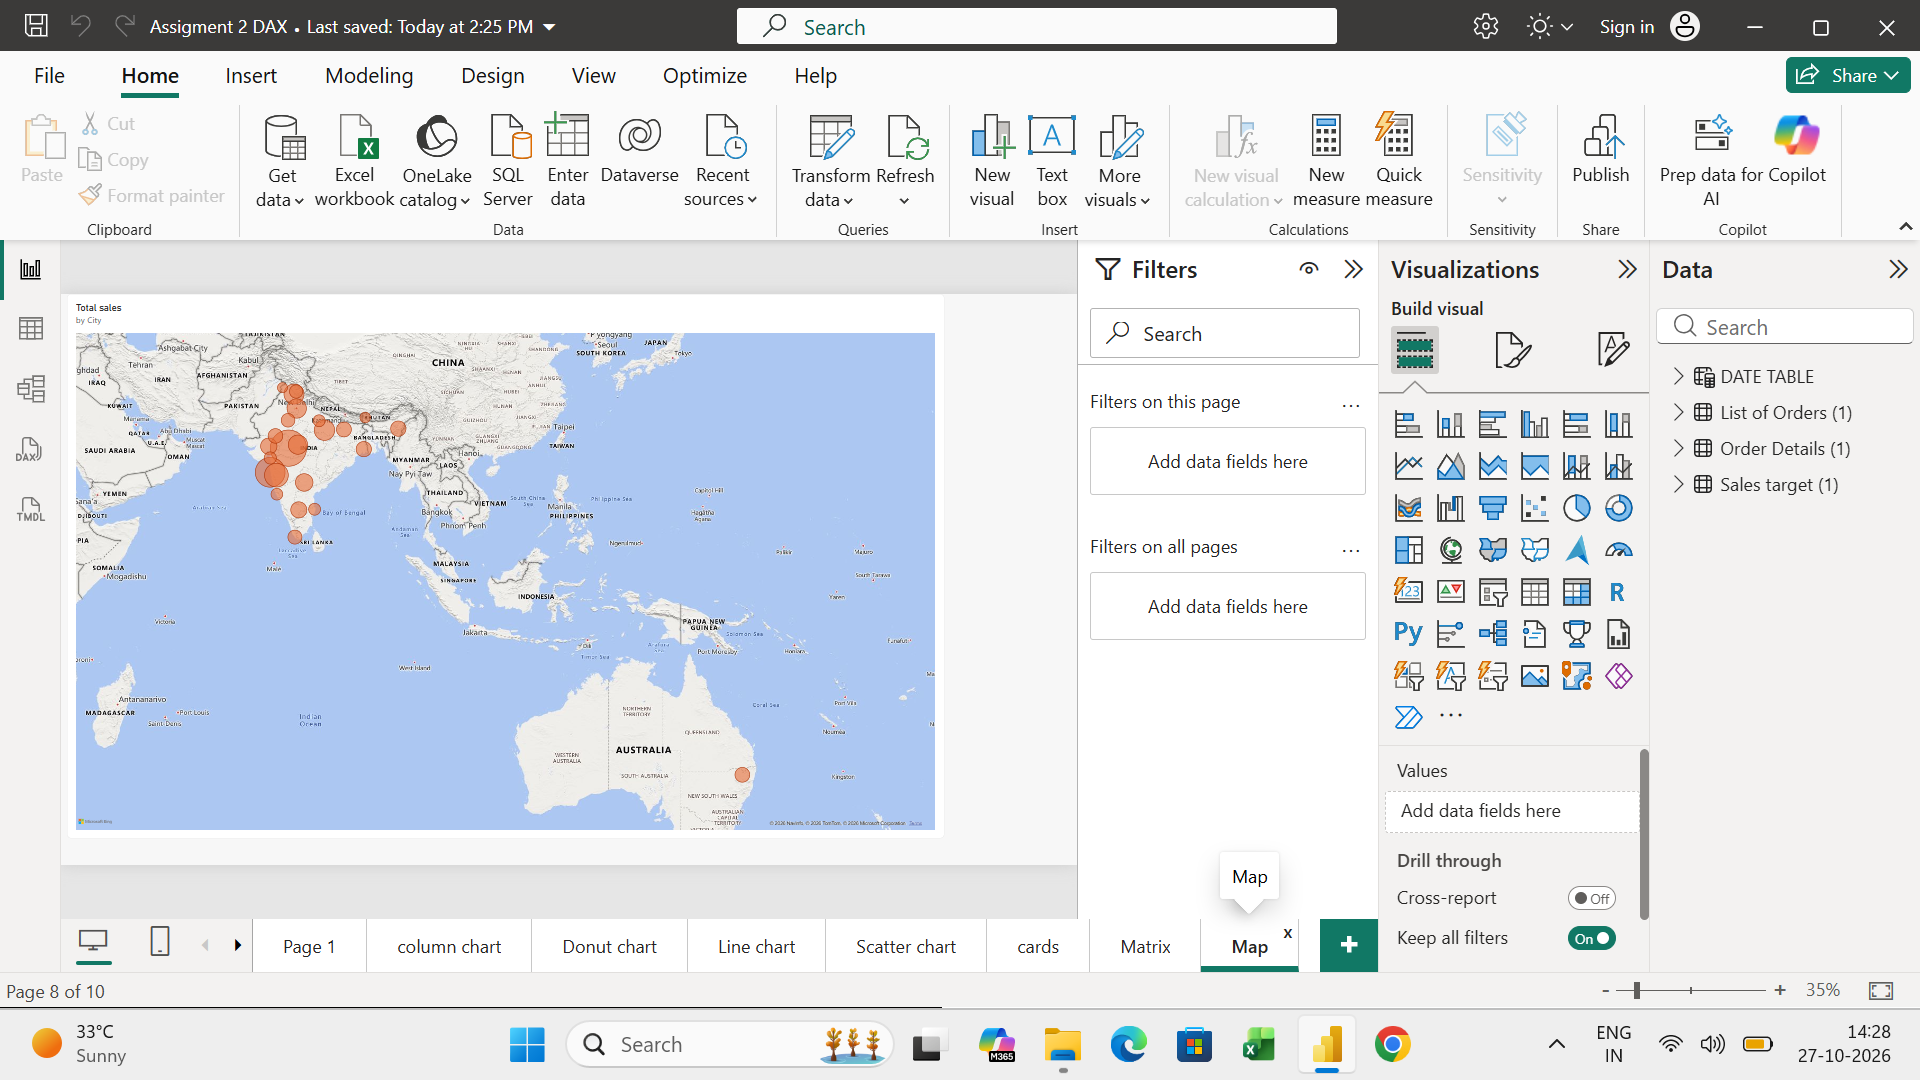

The page's visual inventory and layout, read from the dashboard file:
{"tool":"powerbi","page":{"name":"Map","canvas":[1920,1080],"ordinal":7},"visuals":[{"type":"map","fields":{"Category":["List of Orders (1).City"],"Size":["Order Details (1).Total sales"]},"box":[11.3,0,1658.3,1029],"z":0}]}

Visuals, with their boxes on the page's 1920x1080 design canvas (x1, y1, x2, y2). These are canvas units, not pixel positions in the 1920x1080 screenshot, which may show the page scaled, cropped or inside an application window:
map - List of Orders (1).City x Order Details (1).Total sales: select_region(11, 0, 1670, 1029)
